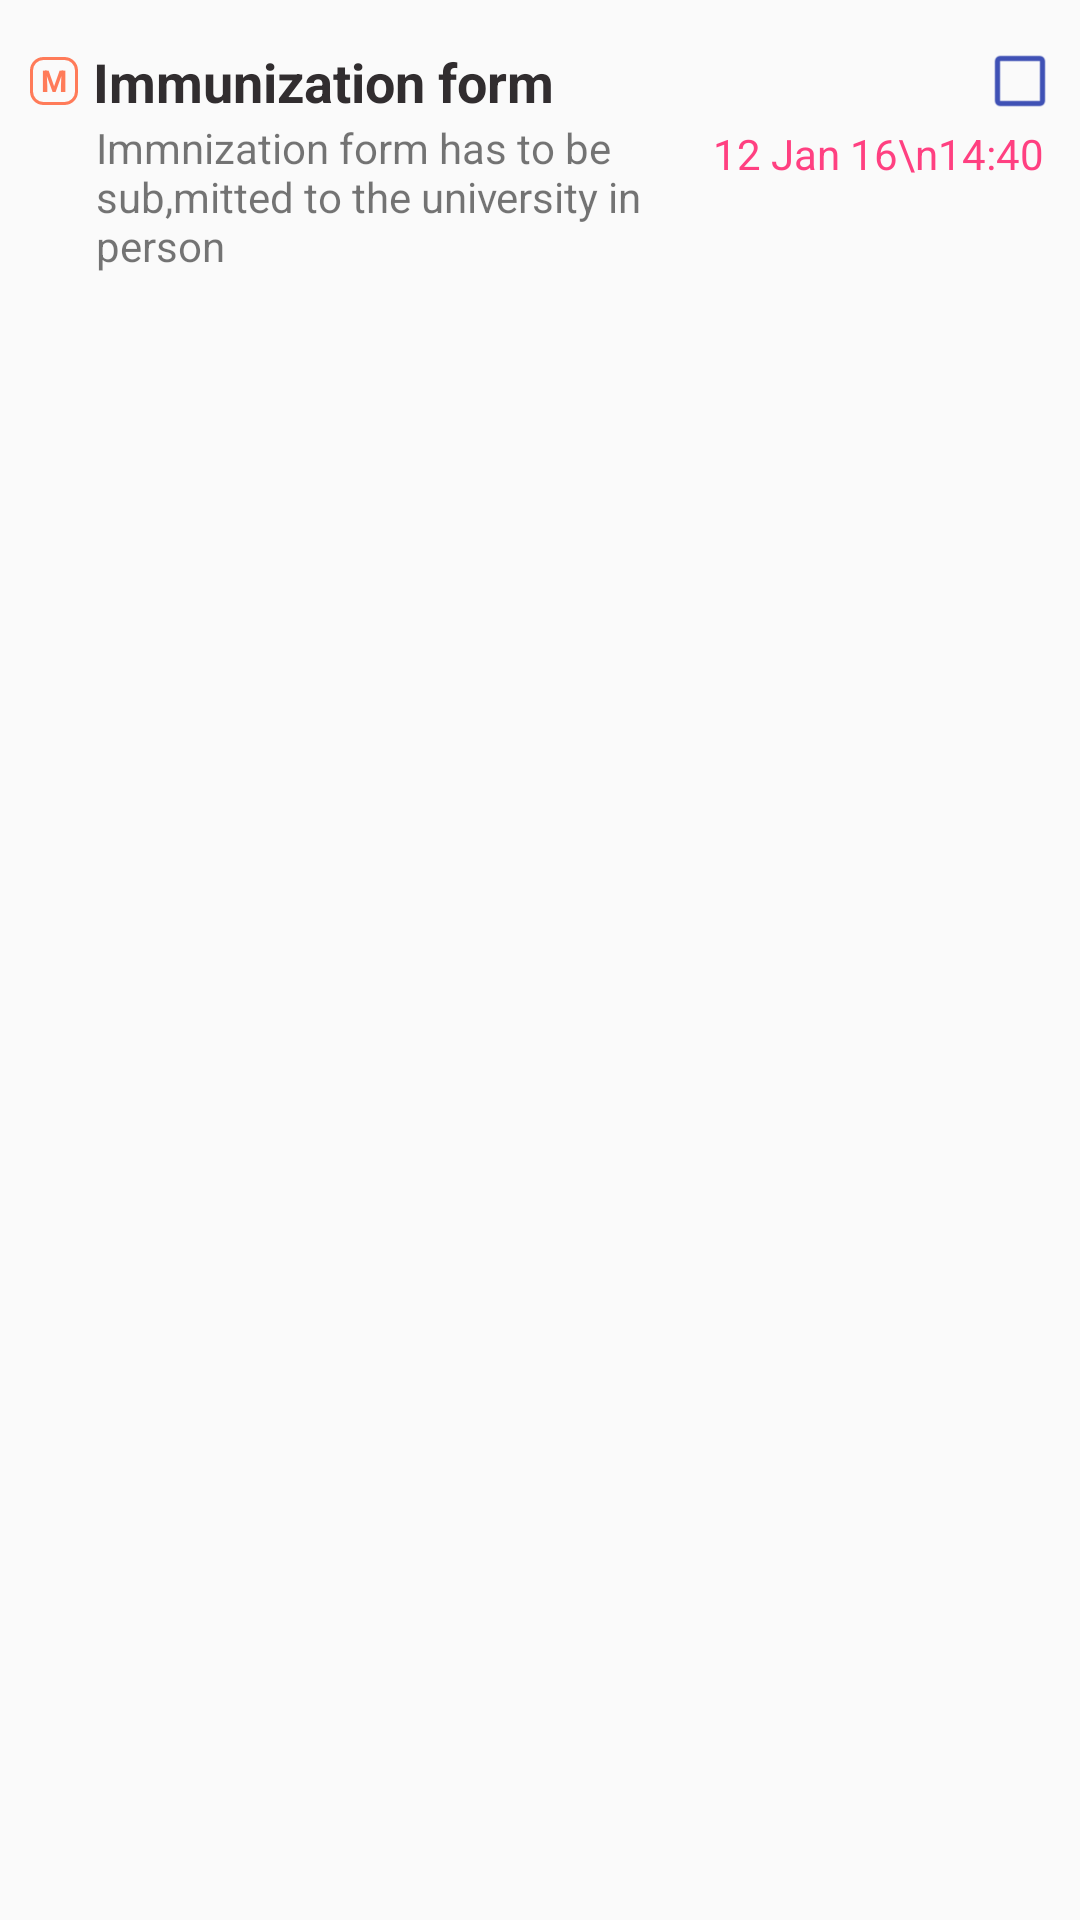

Screen size 1080px×1920px. Icon name, then its box in pixels as (x1, y1, x2, y2):
unchecked: (994, 55, 1046, 107)
